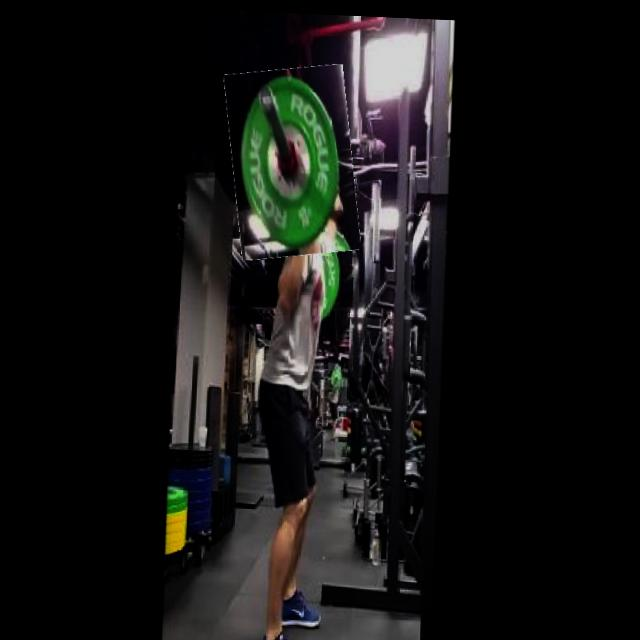barbell: (226, 62, 362, 259)
